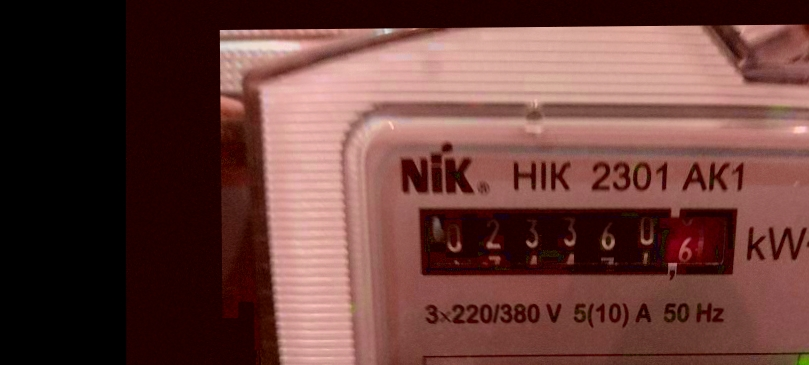0: (443, 218, 465, 253), (636, 212, 658, 247)
2: (483, 215, 504, 251)
3: (522, 215, 542, 250), (561, 214, 579, 248)
6: (598, 216, 618, 251), (676, 231, 694, 264)
screen: (405, 192, 757, 294)
